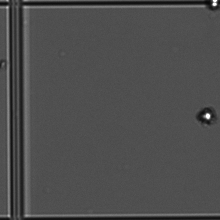Living Cell: (194, 104, 217, 127), (206, 1, 219, 11)
